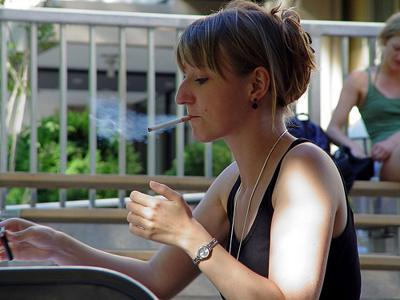person: (5, 4, 363, 300)
